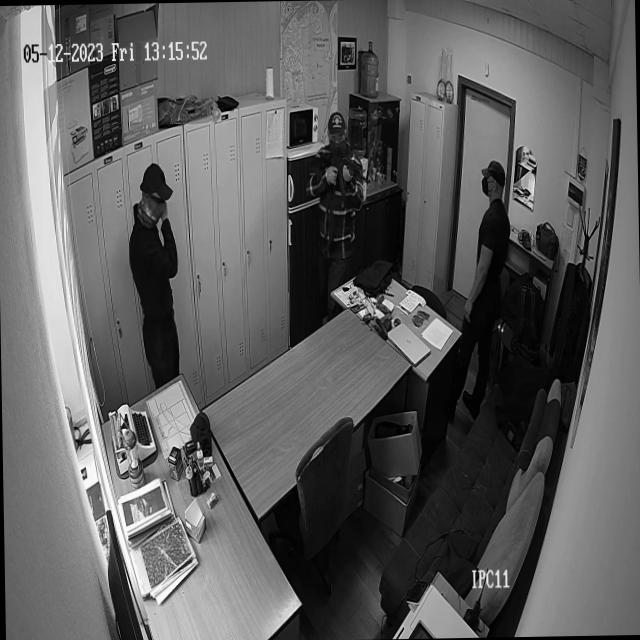gun: (320, 152, 370, 198)
person: (444, 161, 512, 417), (127, 160, 182, 389)
person with a gun: (306, 118, 374, 324)
